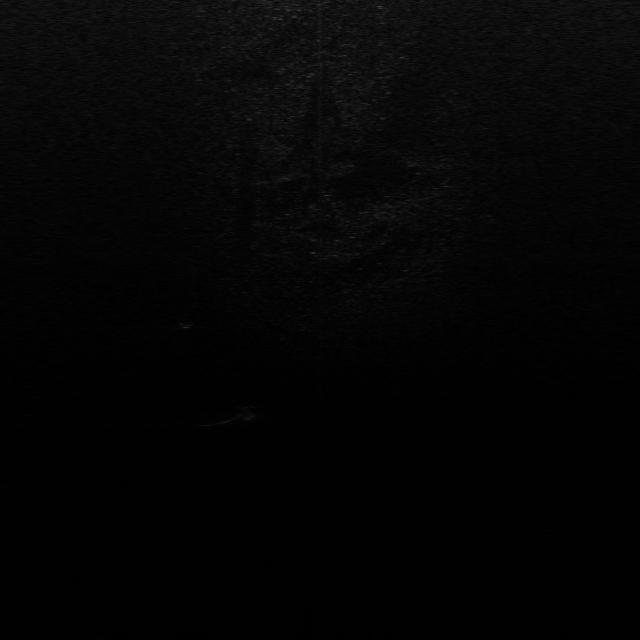ball: (230, 401, 264, 424)
circle cage: (174, 310, 200, 332)
